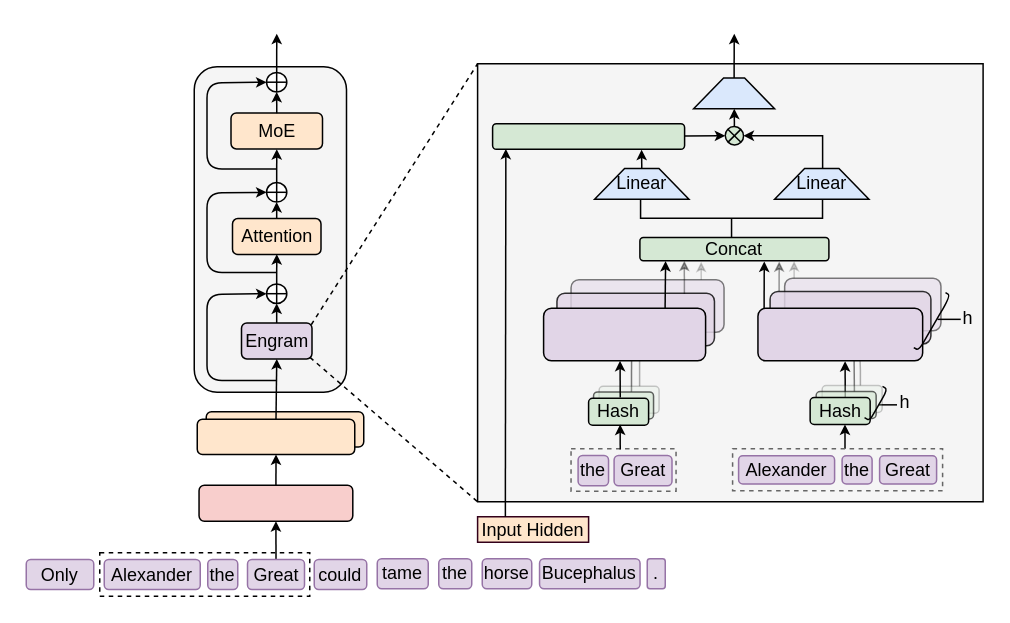
Image size: 1010x623. Some labels were removed from this diagram. Here are the shapes that lost their labels. From the top down, the box of each, then its label:
(692, 76, 775, 109): Conv
(491, 122, 685, 149): Scaled Dot Product
(542, 307, 706, 361): 2-Gram Embedding
(756, 307, 923, 361): 3-Gram Embedding
(196, 418, 355, 454): Transformer Block
(198, 484, 353, 521): Vocab Embedding
